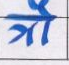ai_matra: (28, 0, 55, 16)
